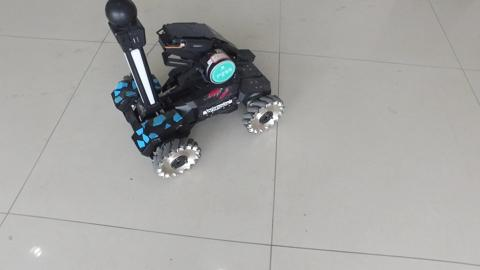chariot: (87, 19, 280, 184)
